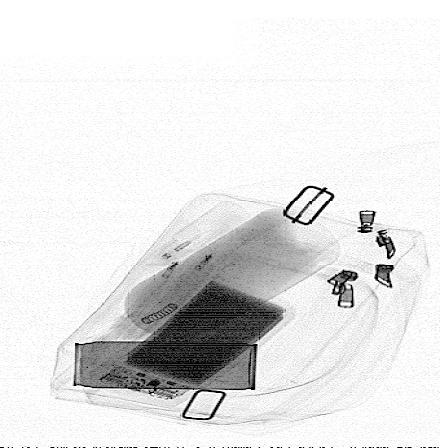Powerbank: (89, 277, 295, 408)
